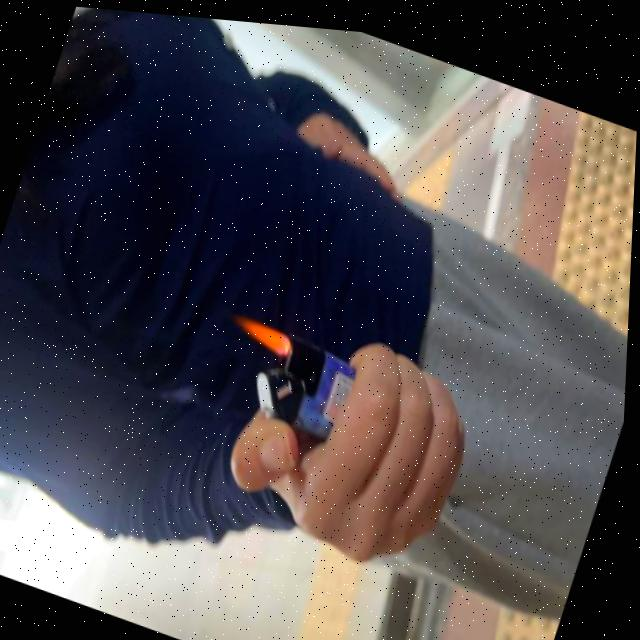Fire: (238, 311, 299, 356)
